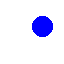circle: (32, 16, 52, 36)
